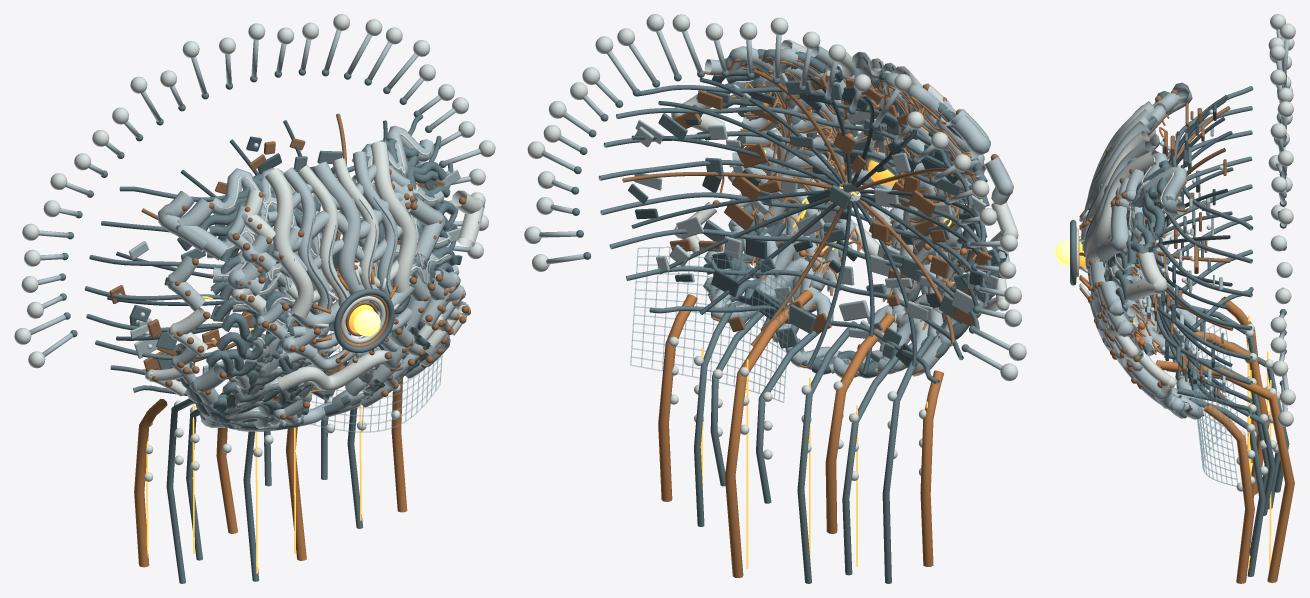
Rendered from company_brain.glb.
The picture shows the model from 3 angles, left to right: view 1: azimuth 30°, elevation 25°; view 2: azimuth 150°, elevation 25°; view 3: azimuth 270°, elevation 25°; orthographic projection. The views are drawn at different scales.
Visible parts, largest first — view 1: Realtime_Batch_Polished_Steel, Realtime_Batch_Bright_Ridge, Realtime_Batch_Gunmetal, Realtime_Batch_Copper, Realtime_Batch_Bronze, Realtime_Batch_Inner_Graphite, Realtime_Batch_Wireframe_Ice, Realtime_Batch_Amber_Trace; view 2: Realtime_Batch_Gunmetal, Realtime_Batch_Polished_Steel, Realtime_Batch_Inner_Graphite, Realtime_Batch_Copper, Realtime_Batch_Bright_Ridge, Realtime_Batch_Bronze, Realtime_Batch_Wireframe_Ice, Realtime_Batch_Amber_Trace; view 3: Realtime_Batch_Gunmetal, Realtime_Batch_Polished_Steel, Realtime_Batch_Bright_Ridge, Realtime_Batch_Copper, Realtime_Batch_Inner_Graphite, Realtime_Batch_Bronze, Realtime_Batch_Wireframe_Ice, Realtime_Batch_Amber_Trace, White_Hot_Energy_Centre.
Part boxes in pixels (x1=…): Realtime_Batch_Polished_Steel: x1=29, y1=29, x2=480, y2=431; Realtime_Batch_Bright_Ridge: x1=14, y1=14, x2=495, y2=481; Realtime_Batch_Gunmetal: x1=59, y1=69, x2=458, y2=583; Realtime_Batch_Copper: x1=134, y1=182, x2=419, y2=567; Realtime_Batch_Bronze: x1=109, y1=113, x2=479, y2=419; Realtime_Batch_Inner_Graphite: x1=107, y1=120, x2=462, y2=395; Realtime_Batch_Wireframe_Ice: x1=309, y1=331, x2=442, y2=432; Realtime_Batch_Amber_Trace: x1=146, y1=296, x2=374, y2=573; Realtime_Batch_Gunmetal: x1=571, y1=44, x2=1007, y2=583; Realtime_Batch_Polished_Steel: x1=539, y1=30, x2=1013, y2=378; Realtime_Batch_Inner_Graphite: x1=631, y1=75, x2=985, y2=373; Realtime_Batch_Copper: x1=658, y1=58, x2=978, y2=577; Realtime_Batch_Bright_Ridge: x1=524, y1=14, x2=1026, y2=480; Realtime_Batch_Bronze: x1=622, y1=56, x2=998, y2=356; Realtime_Batch_Wireframe_Ice: x1=630, y1=246, x2=791, y2=402; Realtime_Batch_Amber_Trace: x1=701, y1=120, x2=982, y2=568; Realtime_Batch_Gunmetal: x1=1070, y1=74, x2=1289, y2=576; Realtime_Batch_Polished_Steel: x1=1081, y1=29, x2=1289, y2=419; Realtime_Batch_Bright_Ridge: x1=1076, y1=14, x2=1295, y2=491; Realtime_Batch_Copper: x1=1076, y1=101, x2=1294, y2=583; Realtime_Batch_Inner_Graphite: x1=1136, y1=95, x2=1233, y2=401; Realtime_Batch_Bronze: x1=1079, y1=90, x2=1233, y2=409; Realtime_Batch_Wireframe_Ice: x1=1189, y1=318, x2=1238, y2=486; Realtime_Batch_Amber_Trace: x1=1079, y1=237, x2=1271, y2=568; White_Hot_Energy_Centre: x1=1055, y1=240, x2=1069, y2=265.
Bounding box in the file's own units: 5.07 × 5.53 × 2.34.
